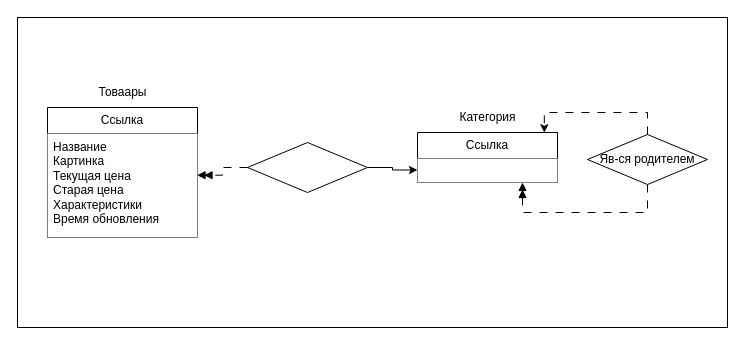
This 745x345 diagram has some shape labels left out. The shapes that lost their labels are listed below. From the top down, each one's centre as x and y in pixels, then its label:
the point at 307,167: Состоит из/в
the point at 487,170: Название
